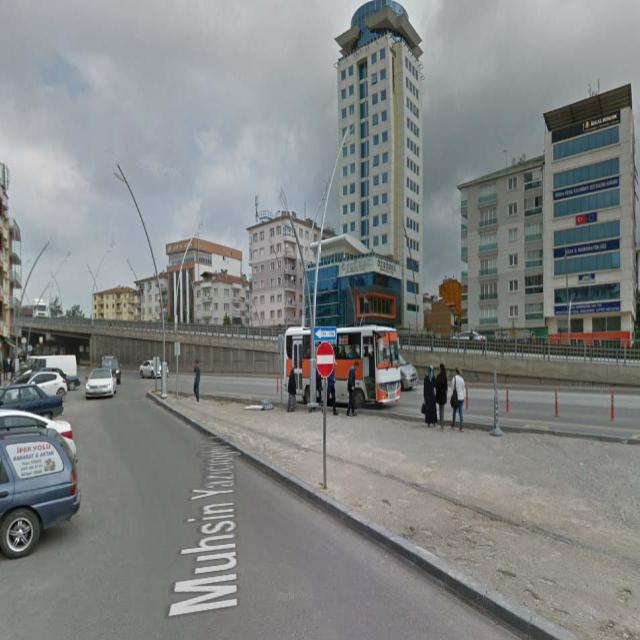girisyok: (315, 342, 335, 380)
